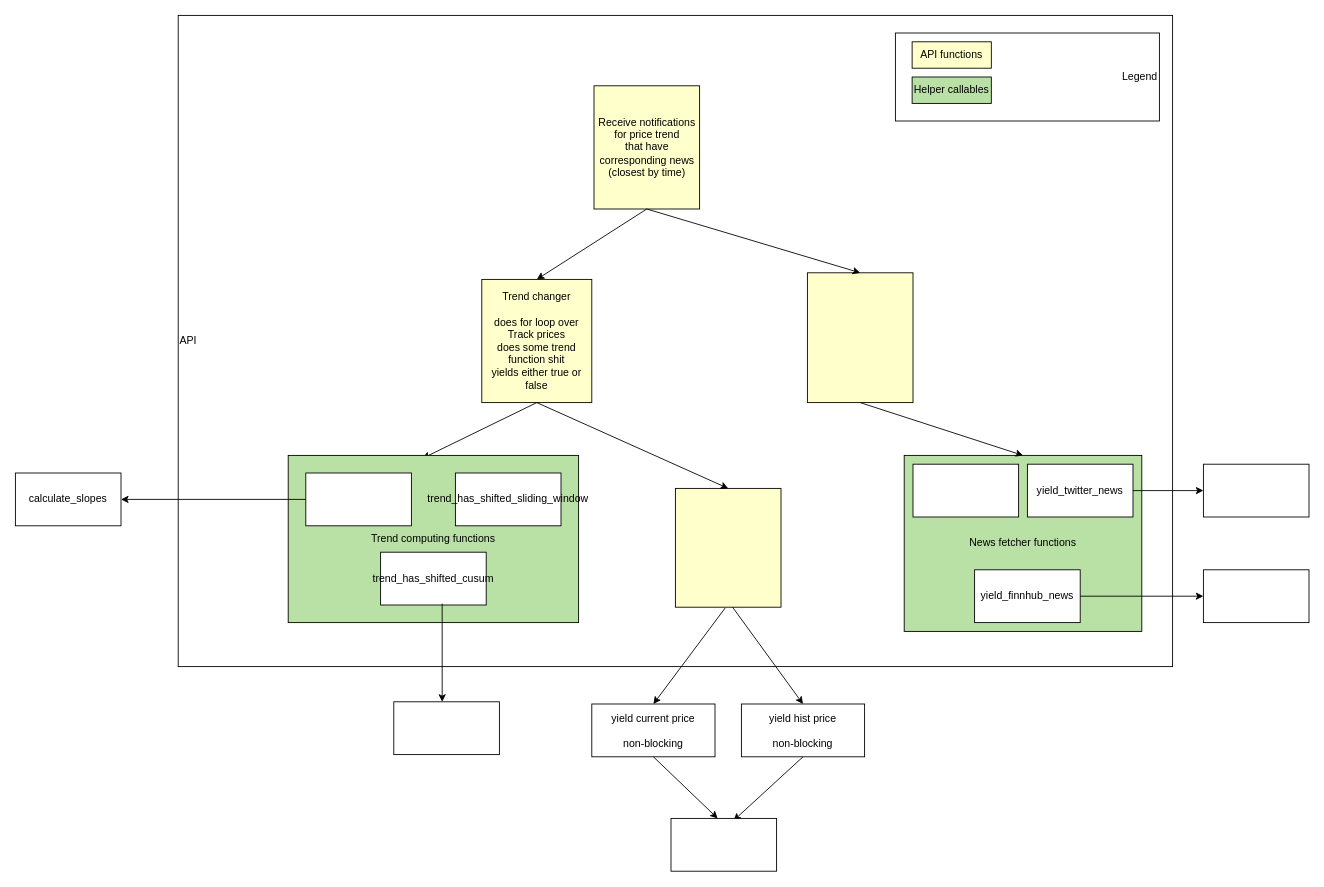
This 1324x887 diagram has some shape labels left out. Each missing label, with the centre of its shape:
calculate_cusum: (446,728)
create_finnhub_client: (1256,596)
create_twitter_token: (1256,490)
NewsCollectionAPI Stores news from different sources by time: (860,337)
Track prices busy loop returns price every nth period: (728,547)
trend_has_shifted_linear_reg: (358,499)
yahoo api: (723,844)
yield_yahoo_news: (965,490)
